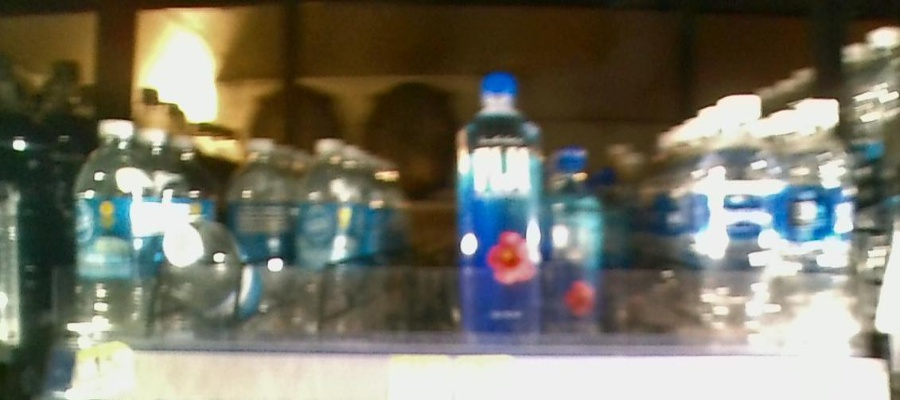bottle: (456, 54, 544, 348), (703, 85, 780, 354), (72, 103, 152, 345), (786, 95, 858, 356), (548, 109, 606, 342), (298, 132, 354, 337), (156, 211, 252, 327)
